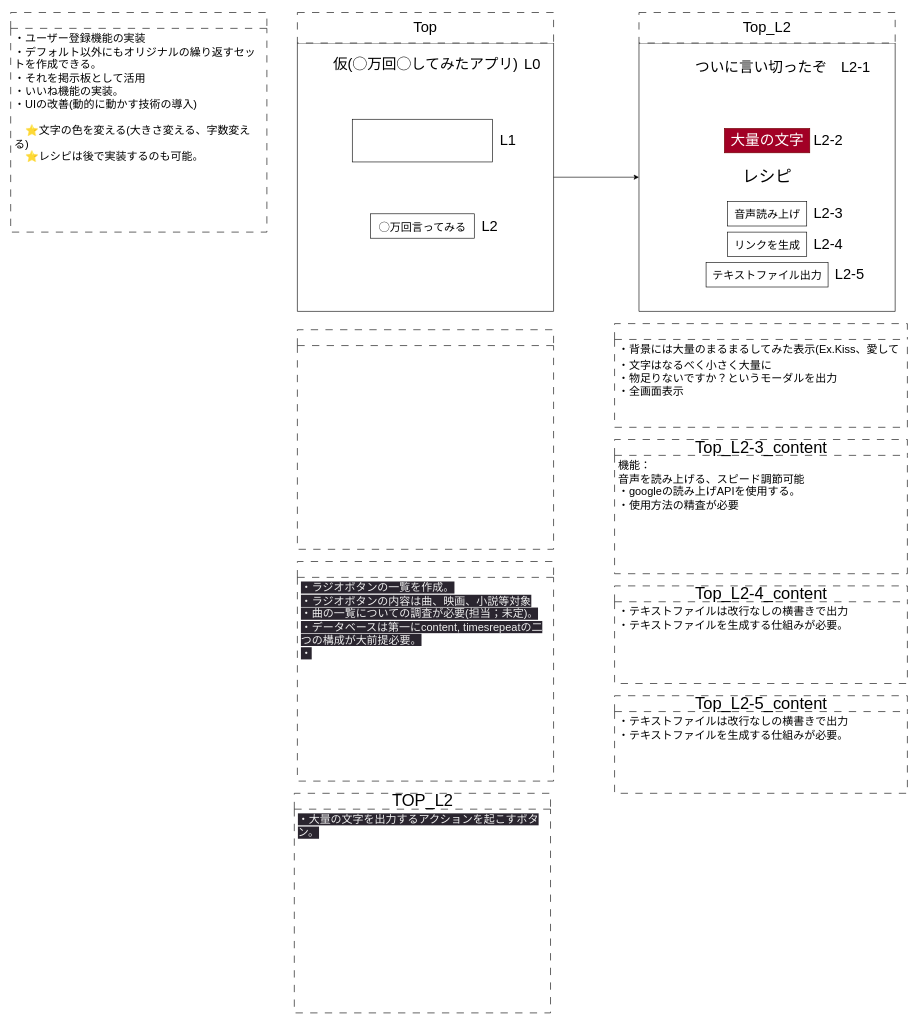
This 918x1025 diagram has some shape labels left out. The shapes that lost their labels are listed below. From the top down, each one's box as (x1, y1, x2, y2) in pixels, then its label:
(10, 12, 267, 232): All
(352, 119, 493, 162): 〇〇を選ぶボタン (ラジオボタン形式)
(614, 323, 907, 427): Top_L2_content
(297, 329, 554, 549): TOP_L0
(297, 561, 554, 781): TOP_L1
